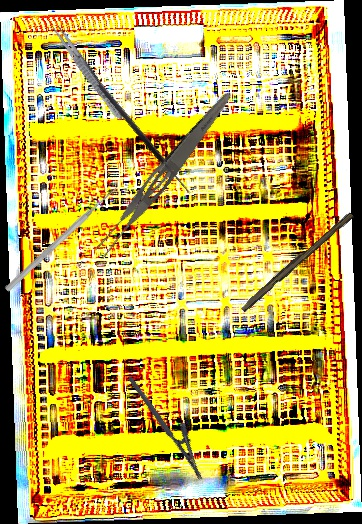Dressing Forceps: (89, 83, 237, 264), (47, 19, 127, 124)
Hook Surgical: (96, 77, 198, 196)
Needle Holder: (126, 366, 218, 482)
Pusher: (3, 183, 121, 294)
Scalpel Handle: (238, 208, 355, 315)
